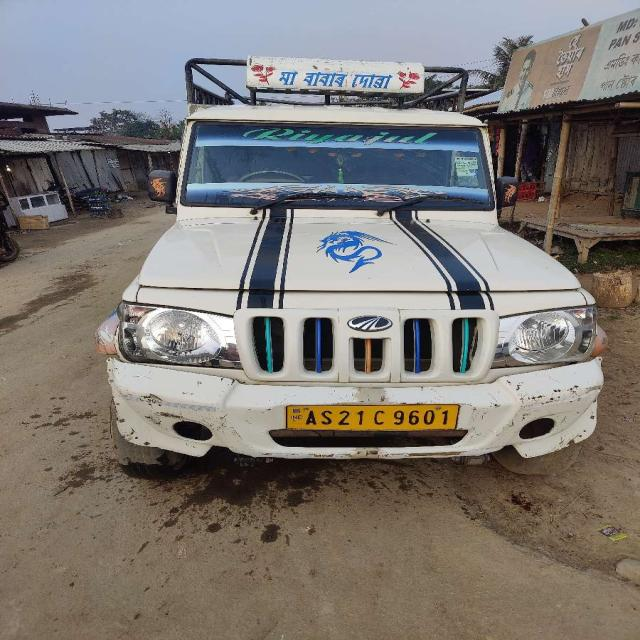light_vehicle: (94, 113, 603, 459)
